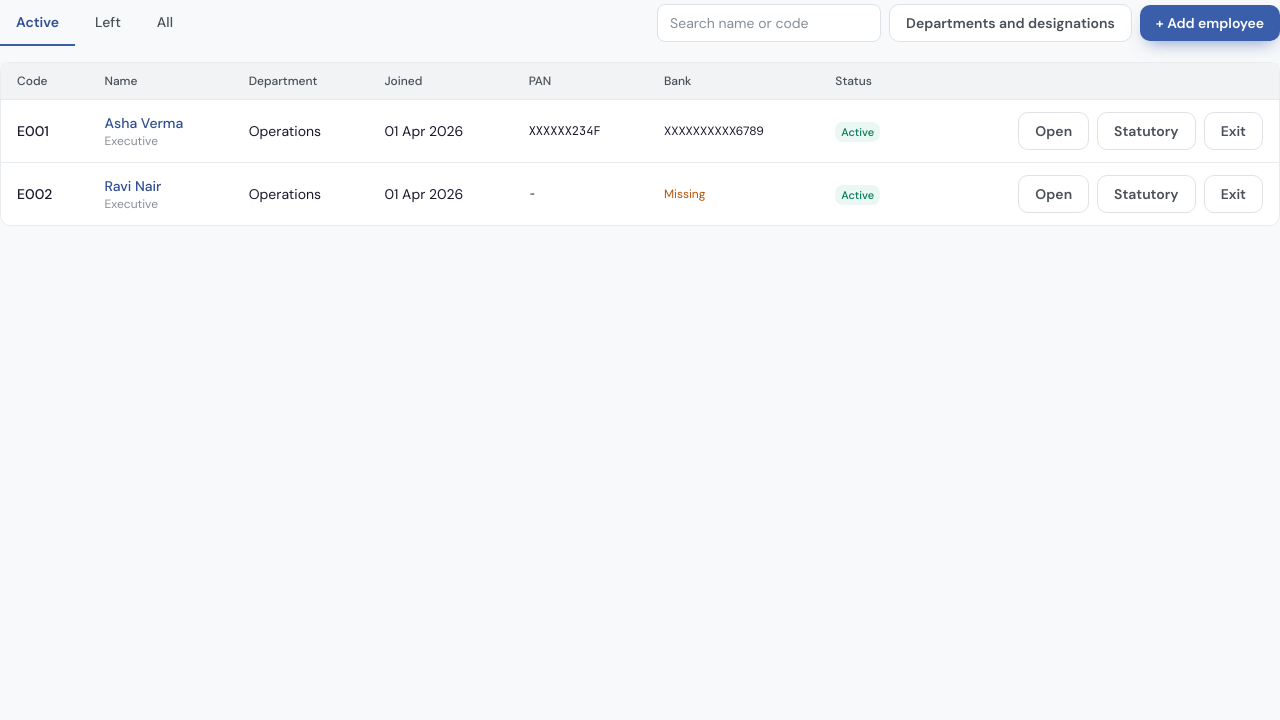
Test: EmployeesTab › an owner sees the full numbers in the employee form
The image size is (1280, 720).
Click the button "Open" in the row of "E001" at {"x": 1054, "y": 131}, box [1018,112,1089,150]
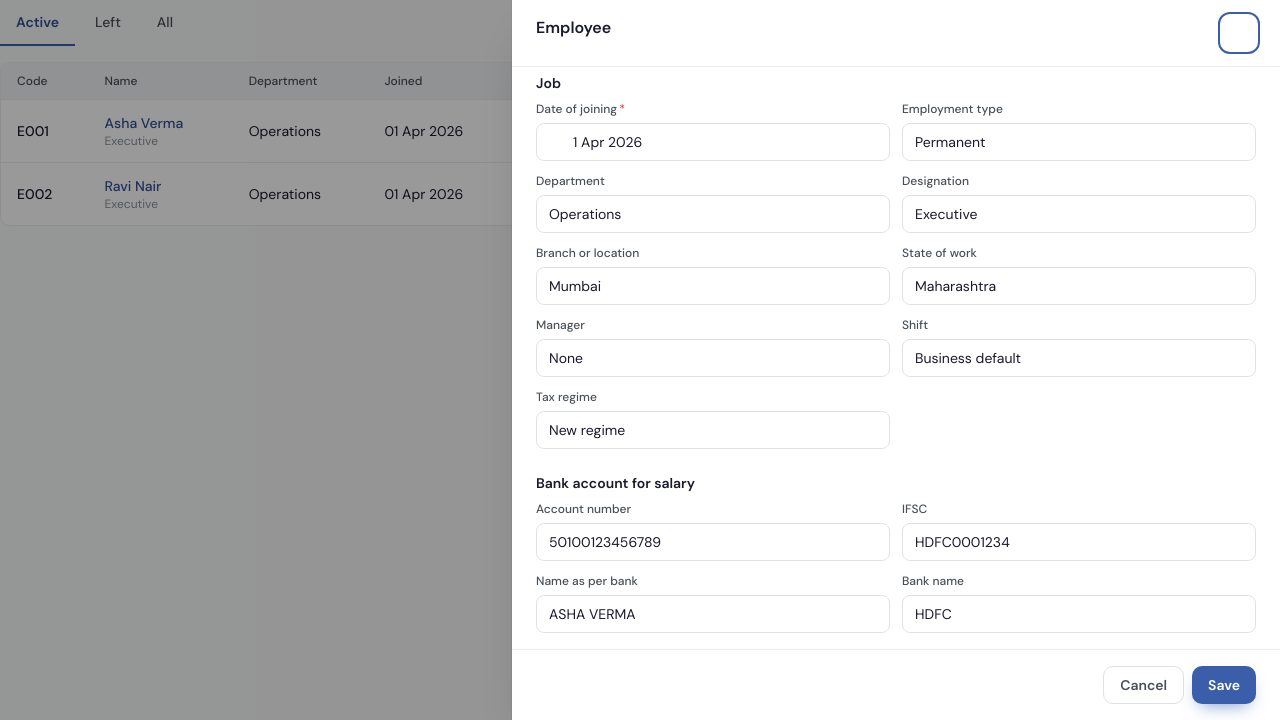
Check: the field labelled "Account number" holds "50100123456789", box [536,523,890,561]
